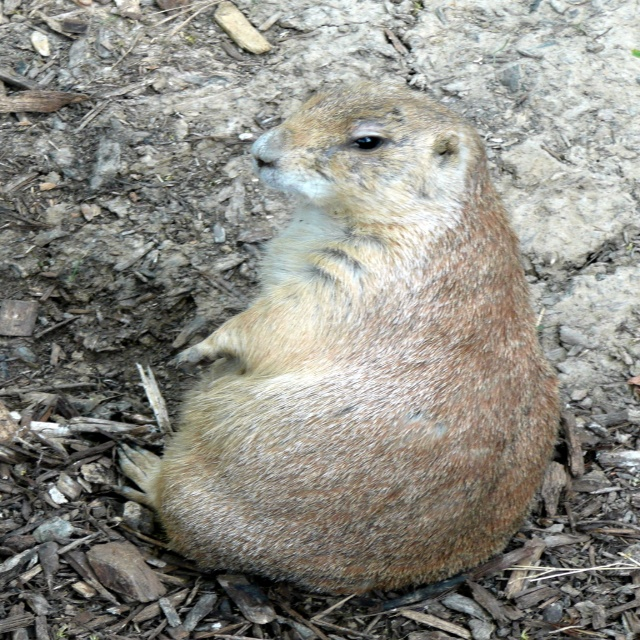Squirrel: (103, 73, 571, 602)
